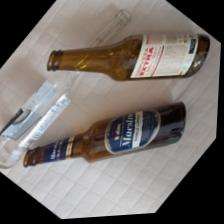glass: (0, 36, 219, 223), (29, 0, 219, 127)
